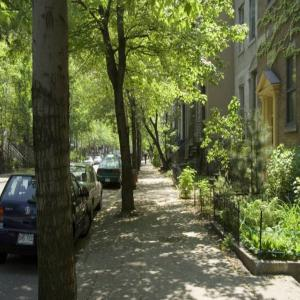Vehicle-registration-plate: (18, 233, 35, 247)
